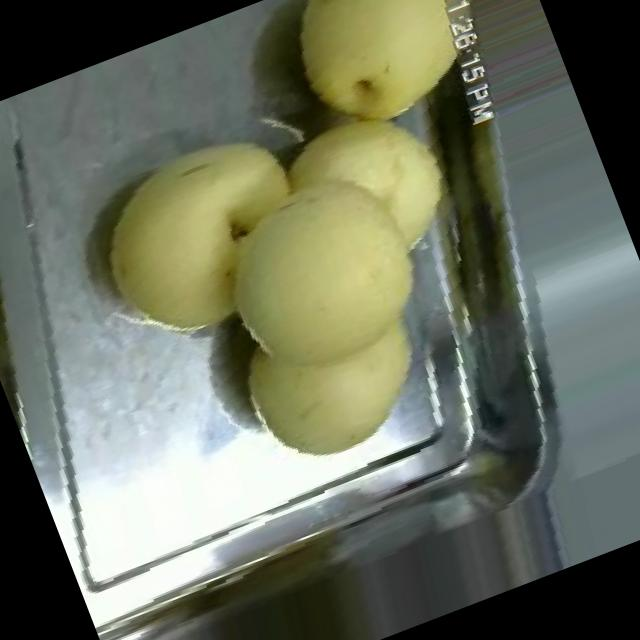Fruit: (147, 90, 518, 498), (47, 87, 361, 386), (249, 0, 523, 174)
